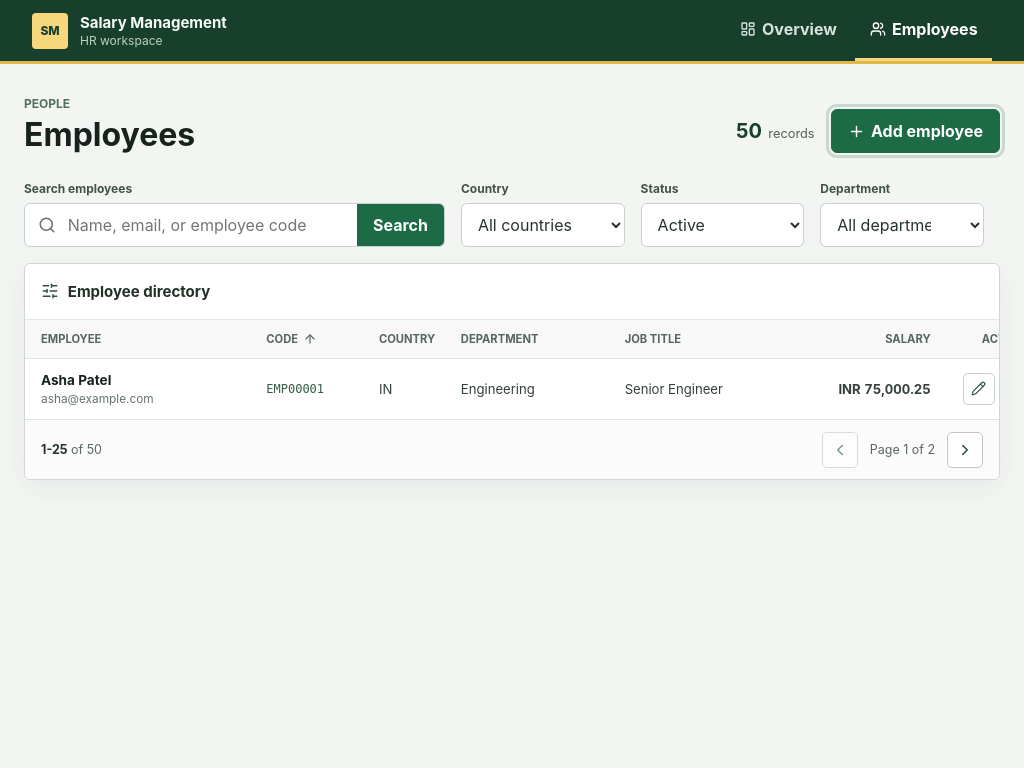
Test: opens with keyboard focus and closes with Escape
The width and height of the screenshot is (1024, 768).
expect the text "Asha Patel" is shown: met, box [41, 372, 111, 388]
Click the button "Add employee" at (915, 131), box [831, 109, 1000, 153]
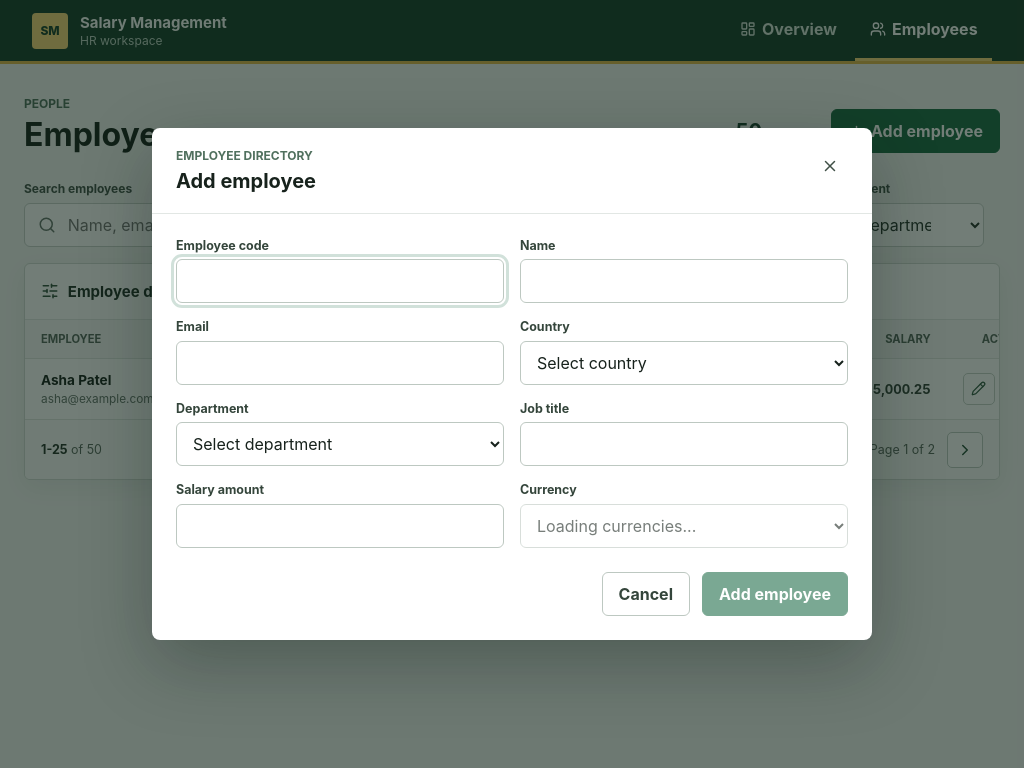
Press Escape in the dialog, box [152, 128, 872, 640]
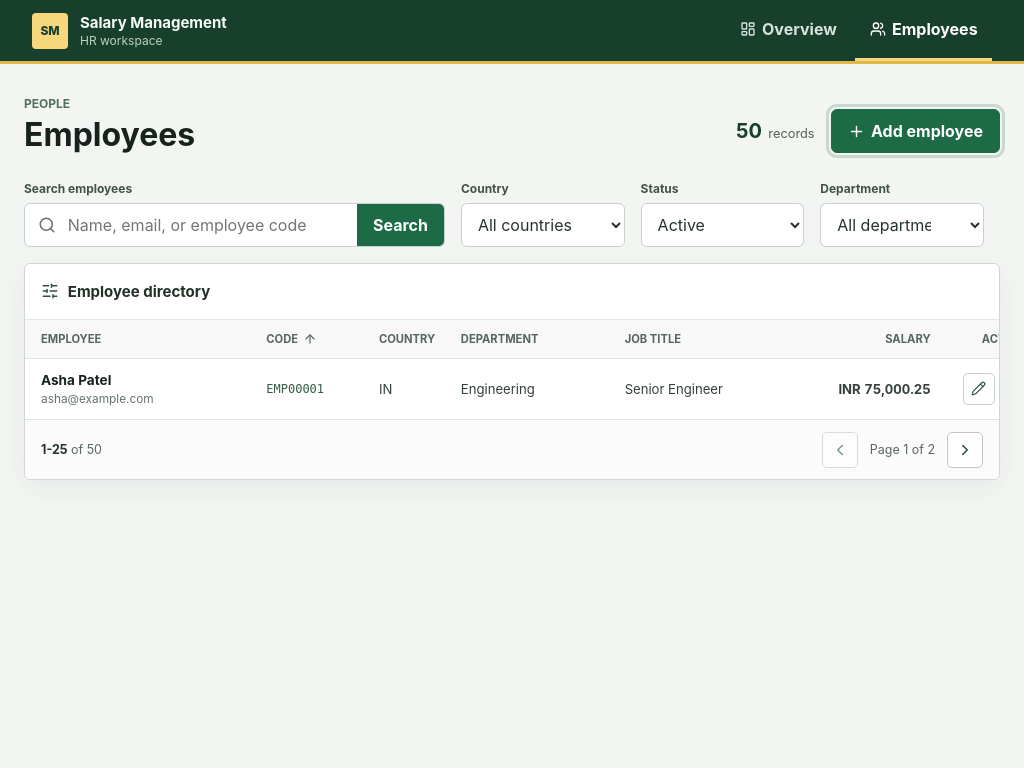
expect the dialog is gone: met
